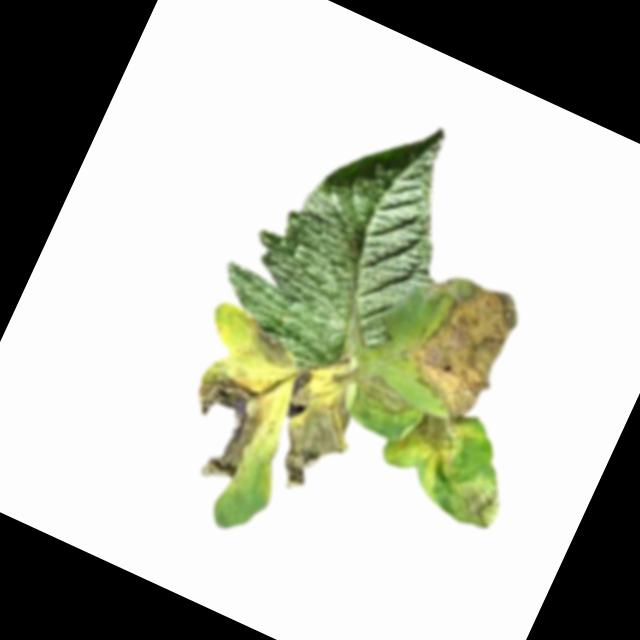Late_blight: (381, 260, 533, 424), (256, 349, 381, 505), (163, 360, 278, 491), (386, 395, 478, 494), (440, 465, 512, 537), (233, 312, 310, 375), (351, 362, 422, 423)
healthy: (203, 69, 494, 398)
